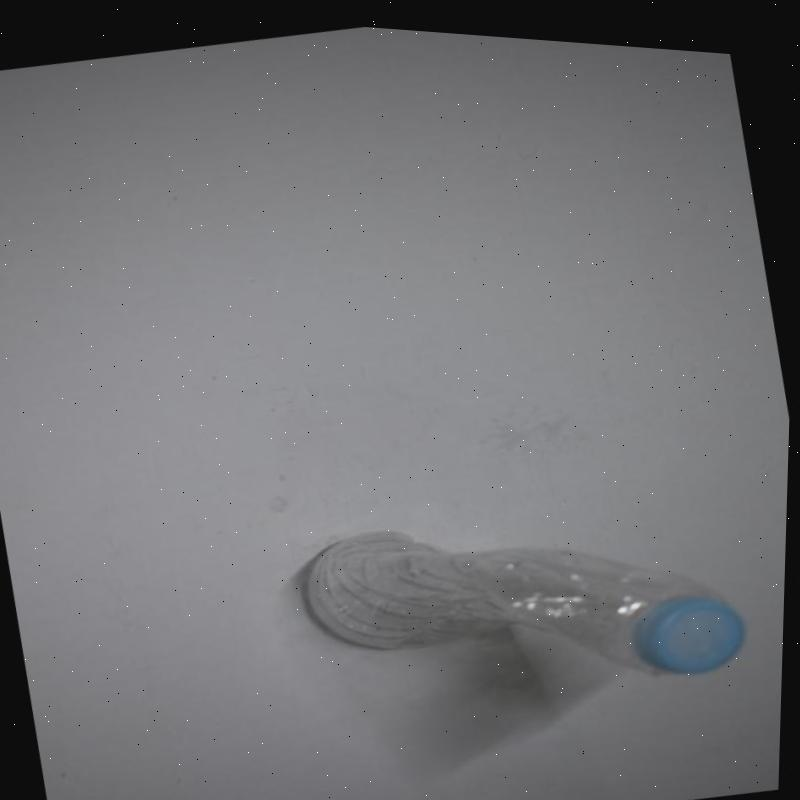botella: (295, 455, 761, 740)
